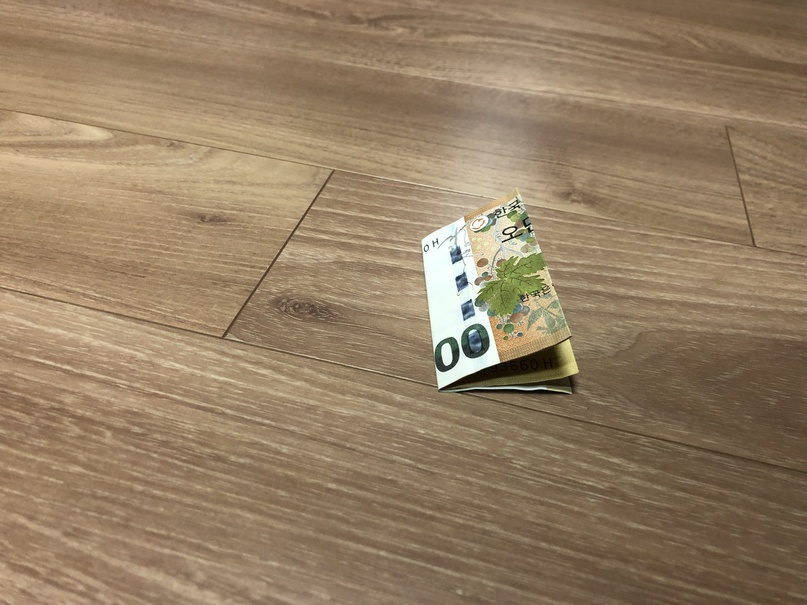50000won: (422, 187, 580, 394)
